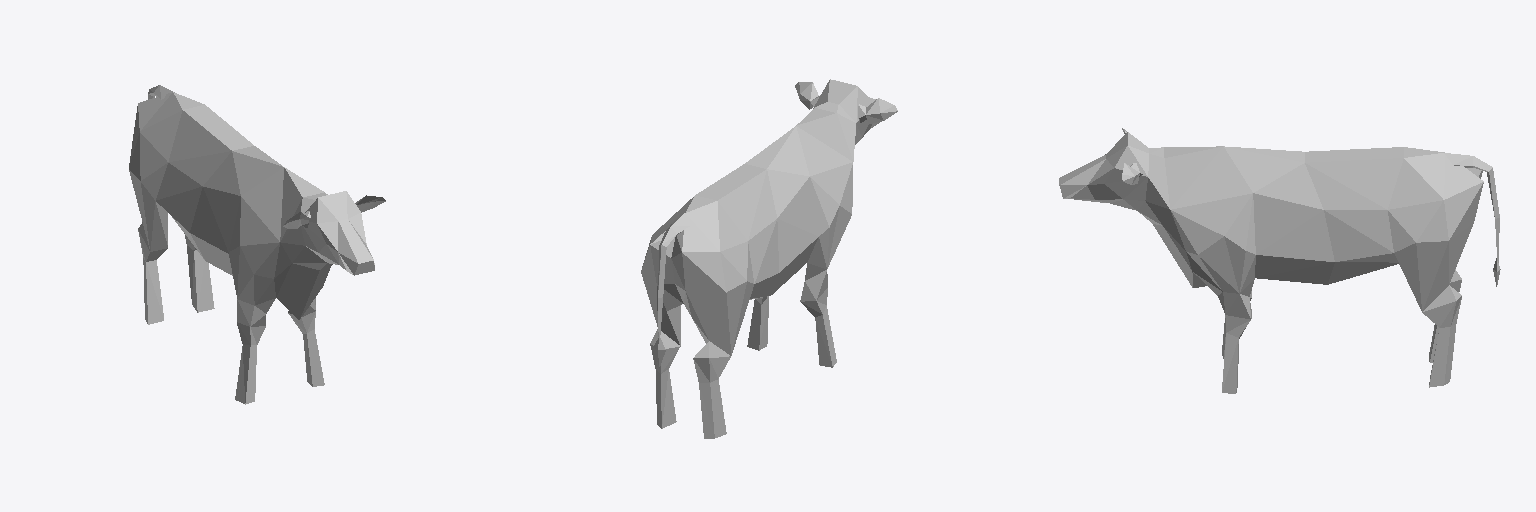
Rendered from cow.obj.
3 renders of one model, left to right at view 1: azimuth 30°, elevation 25°; view 2: azimuth 150°, elevation 25°; view 3: azimuth 270°, elevation 25°, orthographic.
Visible parts, largest first — view 1: cow; view 2: cow; view 3: cow.
Part boxes in pixels (x1,y1,x2,y2): cow: (129,85,385,404); cow: (641,79,897,438); cow: (1059,128,1500,393).
Size of the model in its own units: 1.44 by 3.12 by 5.31.